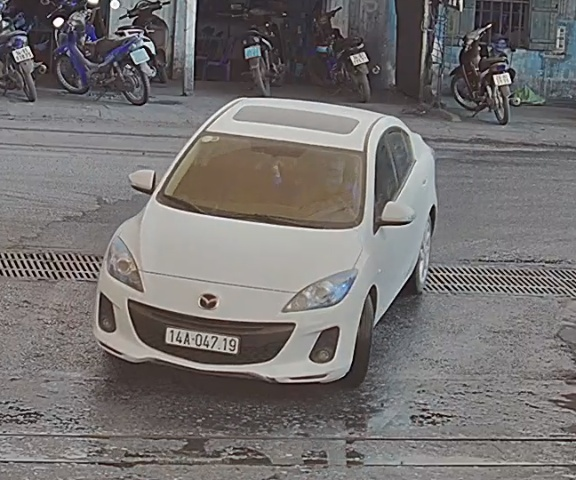vehicle plate: (162, 322, 246, 359)
